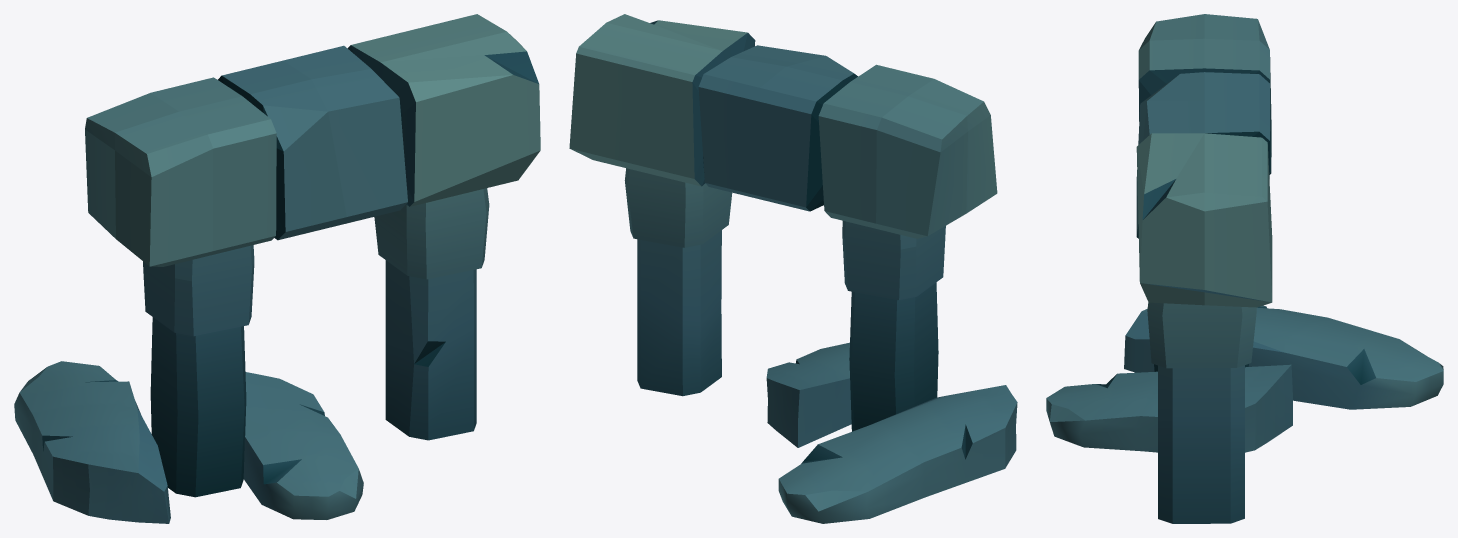
File: Porton_Rocks_Medium_0_1.fbx
3 views of the same model, side by side, from view 1: azimuth 30°, elevation 25°; view 2: azimuth 150°, elevation 25°; view 3: azimuth 270°, elevation 25° (orthographic). The views are drawn at different scales.
Visible parts, largest first — view 1: Cube.031, Cube.017; view 2: Cube.031, Cube.017; view 3: Cube.031, Cube.017.
Boxes of the visible parts, left/top/right/bottom form: Cube.031: left=14, top=14, right=540, bottom=523; Cube.017: left=243, top=372, right=363, bottom=519; Cube.031: left=569, top=14, right=1017, bottom=523; Cube.017: left=766, top=342, right=851, bottom=447; Cube.031: left=1124, top=14, right=1443, bottom=523; Cube.017: left=1046, top=364, right=1292, bottom=452.
Size of the model in its own units: 757 by 586 by 595.
